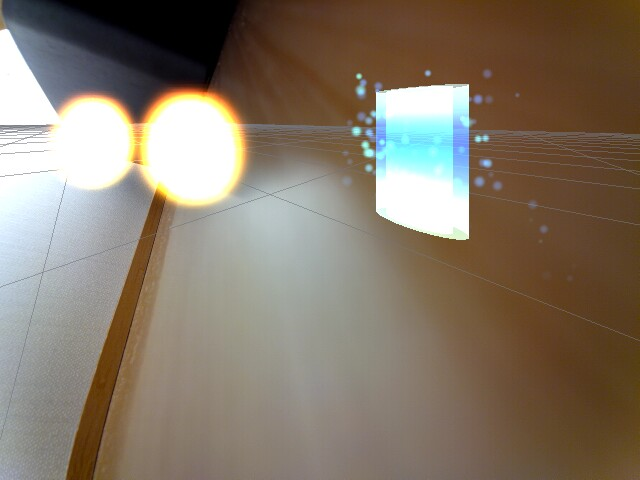firebig: (137, 81, 258, 213)
